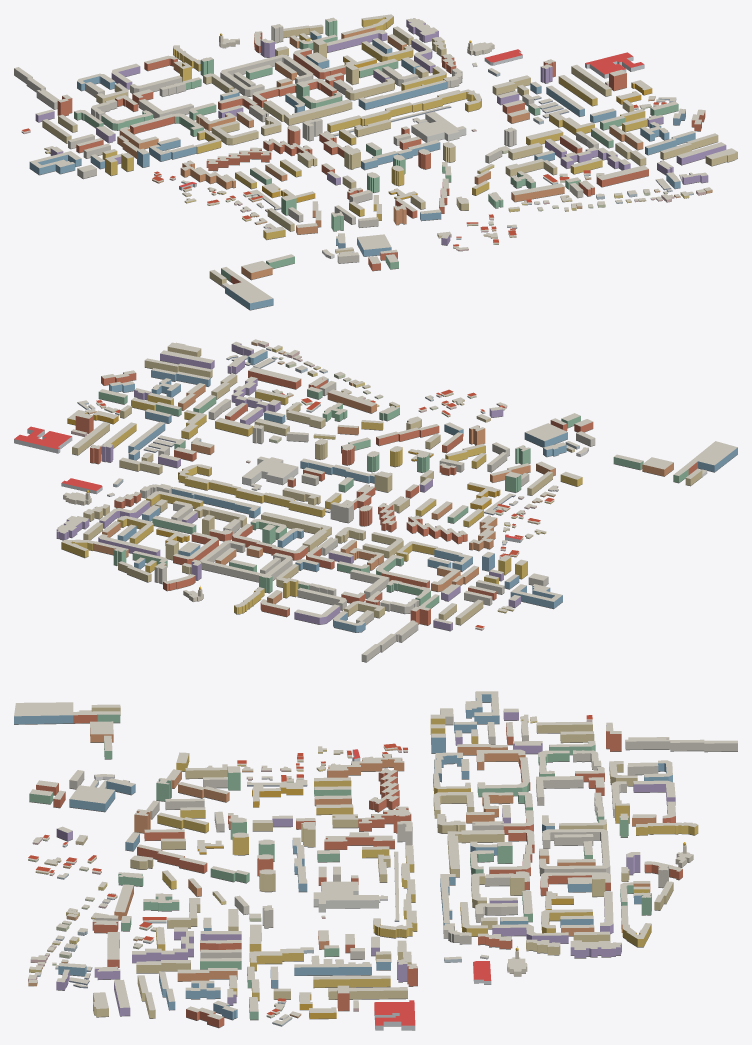
The model's file is buildings.glb.
The picture shows the model from 3 angles, top to bottom: view 1: azimuth 30°, elevation 25°; view 2: azimuth 150°, elevation 25°; view 3: azimuth 270°, elevation 25°; orthographic projection. The views are drawn at different scales.
Parts seen in each view (by area): view 1: bld_1159458634, bld_1159458639, bld_1313291164, bld_644896995, bld_1075088963, bld_1074864379, bld_665018883, bld_1303922869, bld_1303922847, bld_1303925398, bld_1313291158, bld_1303925387 (+21 smaller); view 2: bld_1159458634, bld_1159458639, bld_644896995, bld_1313291164, bld_1303922847, bld_1075088963, bld_1074864379, bld_1313291158, bld_665018883, bld_1303925398, bld_1303922869, bld_1303925387 (+19 smaller); view 3: bld_644896995, bld_1159458634, bld_1159458639, bld_1313291175, bld_1074864379, bld_1303922847, bld_1313291164, bld_1303922869, bld_1159455313, bld_535345211, bld_534845331, bld_1075068374 (+27 smaller).
Boxes of the visible parts, x1,y1,x2,y2 form: bld_1159458634: [327, 89, 481, 132]; bld_1159458639: [220, 54, 313, 96]; bld_1313291164: [263, 99, 352, 125]; bld_644896995: [411, 111, 466, 142]; bld_1075088963: [358, 80, 446, 110]; bld_1074864379: [225, 281, 273, 310]; bld_665018883: [29, 151, 81, 175]; bld_1303922869: [560, 147, 630, 170]; bld_1303922847: [585, 52, 644, 78]; bld_1303925398: [206, 147, 271, 171]; bld_1313291158: [252, 78, 337, 107]; bld_1303925387: [361, 139, 440, 170]; bld_1159458634: [178, 464, 325, 517]; bld_1159458639: [200, 540, 292, 582]; bld_644896995: [242, 456, 298, 485]; bld_1313291164: [261, 512, 331, 551]; bld_1303922847: [14, 426, 72, 453]; bld_1075088963: [171, 487, 260, 518]; bld_1074864379: [692, 441, 737, 472]; bld_1313291158: [232, 523, 308, 560]; bld_665018883: [510, 584, 562, 609]; bld_1303925398: [406, 515, 467, 544]; bld_1303922869: [231, 376, 280, 412]; bld_1303925387: [300, 458, 375, 483]; bld_644896995: [313, 881, 378, 912]; bld_1159458634: [373, 845, 417, 938]; bld_1159458639: [539, 829, 610, 876]; bld_1313291175: [625, 737, 737, 752]; bld_1074864379: [14, 702, 73, 724]; bld_1303922847: [374, 1000, 415, 1030]; bld_1313291164: [447, 830, 504, 877]; bld_1303922869: [132, 927, 193, 963]; bld_1159455313: [327, 754, 404, 777]; bld_535345211: [69, 785, 115, 812]; bld_534845331: [294, 963, 371, 975]; bld_1075068374: [324, 832, 394, 850].
Bounding box in the file's own units: 1277 × 32.3 × 1181.
